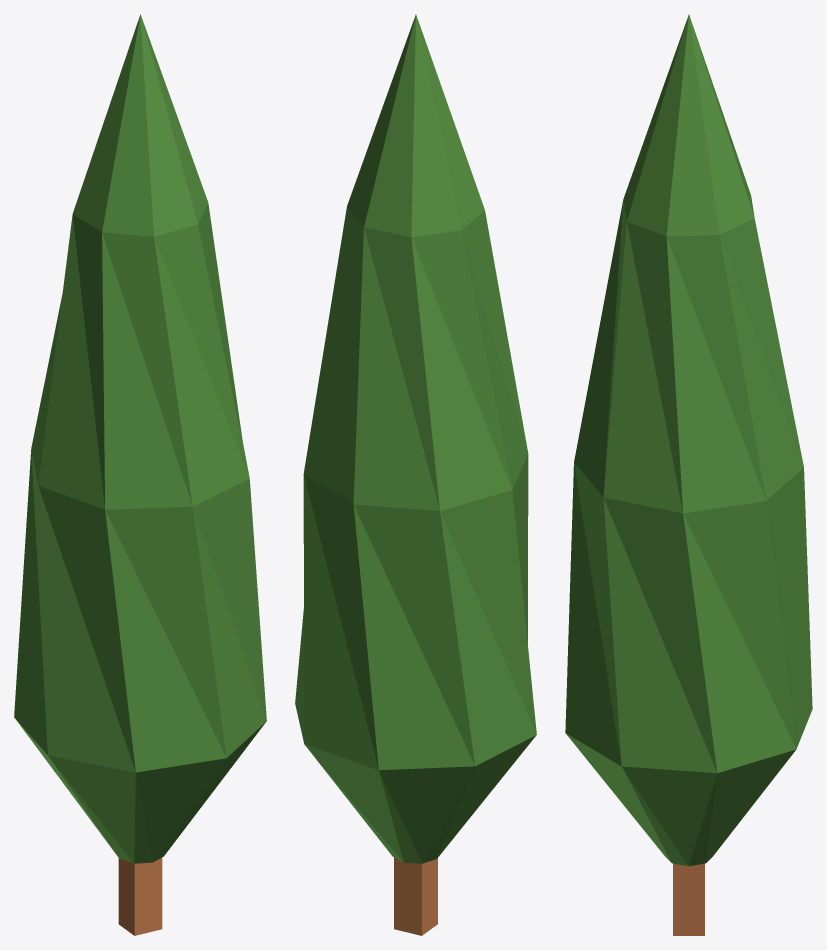
Rendered from tree_type_01.fbx.
3 views of the same model, side by side, from view 1: azimuth 30°, elevation 25°; view 2: azimuth 150°, elevation 25°; view 3: azimuth 270°, elevation 25° (orthographic).
Visible parts, largest first — view 1: tree_type_01; view 2: tree_type_01; view 3: tree_type_01.
Boxes of the visible parts, left/top/right/bottom form: tree_type_01: left=14, top=14, right=266, bottom=935; tree_type_01: left=295, top=14, right=536, bottom=935; tree_type_01: left=565, top=14, right=812, bottom=935.
Bounding box in the file's own units: 307 × 1253 × 307.
1 material, 1 textured.
